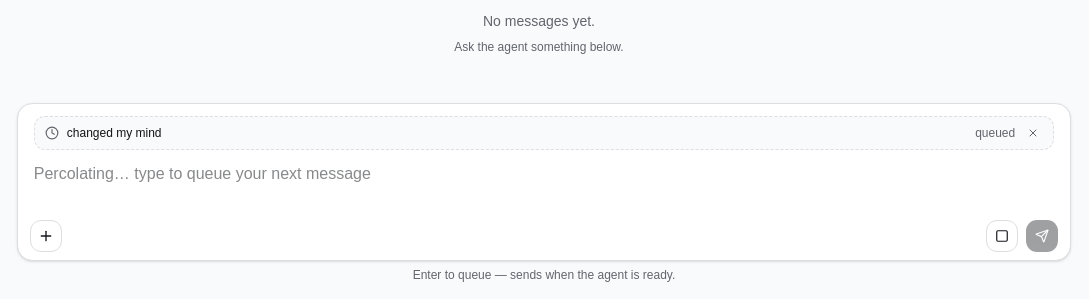
Test case: mirroring the server's queue › removes a queued entry through the API
Expected: the text "changed my mind" is shown, [67,126,162,140]
Step 1. Click the button named "remove queued message" → (1033,133), box [1023,123,1043,143]
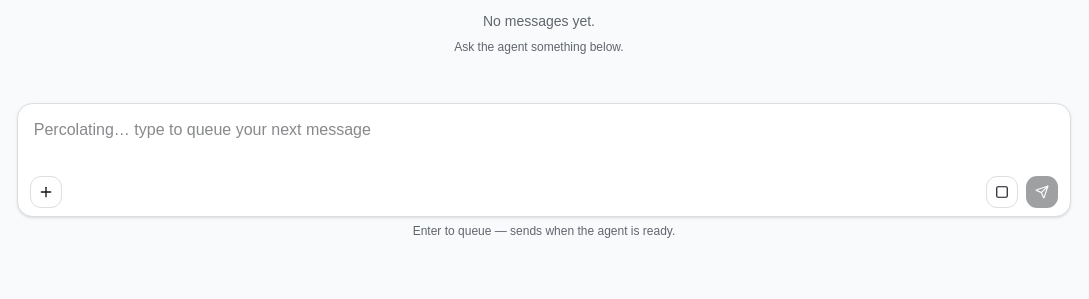
Expected: the text "changed my mind" is gone
